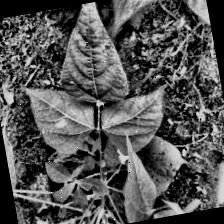ALS: (54, 0, 133, 103), (88, 90, 180, 160), (140, 134, 192, 194), (106, 0, 190, 35)
